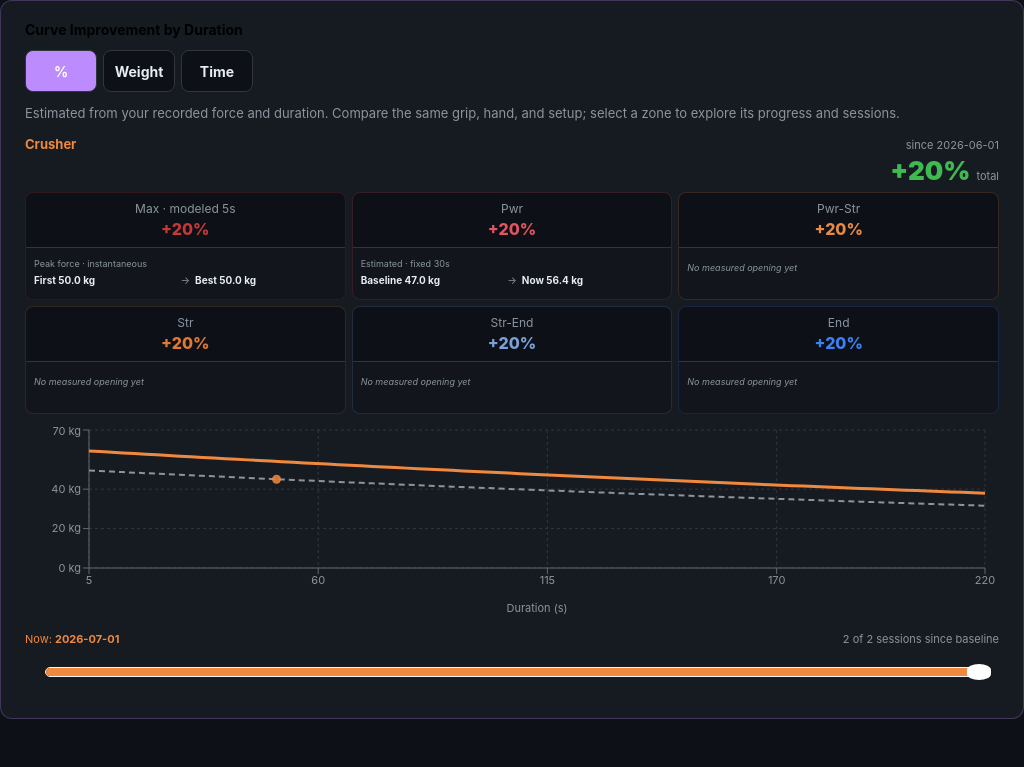
Test case: unsupported hold-time boxes remain selectable and show a dash instead of a gain
Click the button "Time": (217, 71) 181,50 -> 253,92
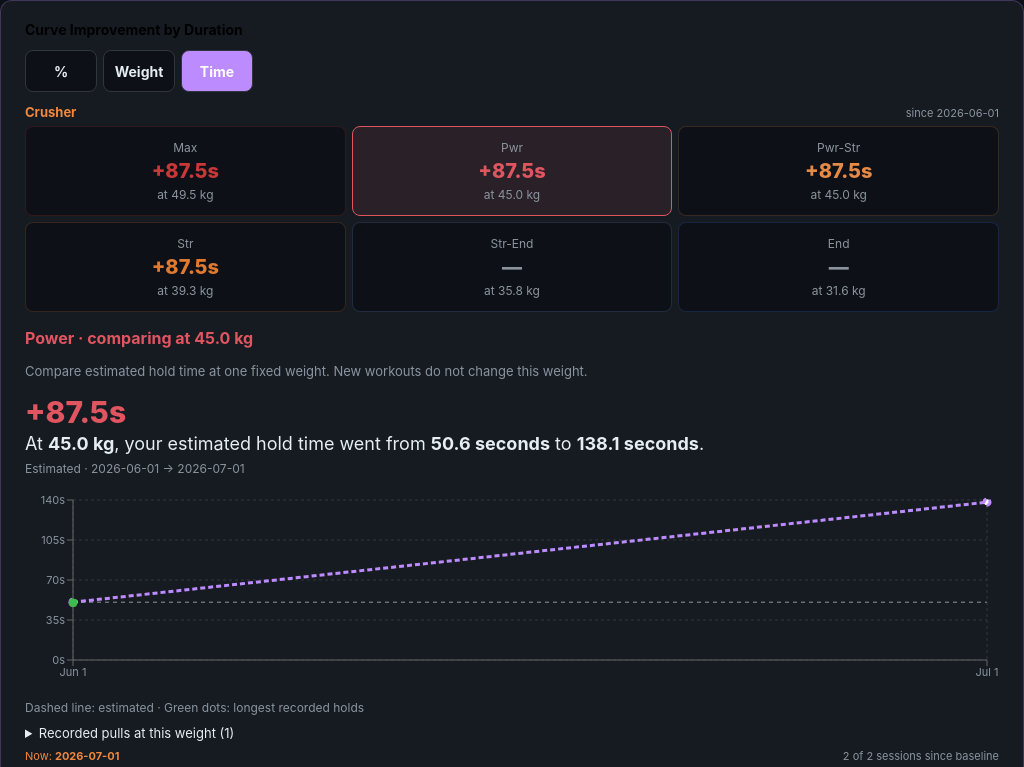
Result: the button with aria-label "Endurance hold time" shows "—"
Click the button with aria-label "Endurance hold time": (839, 267) 678,222 -> 999,312
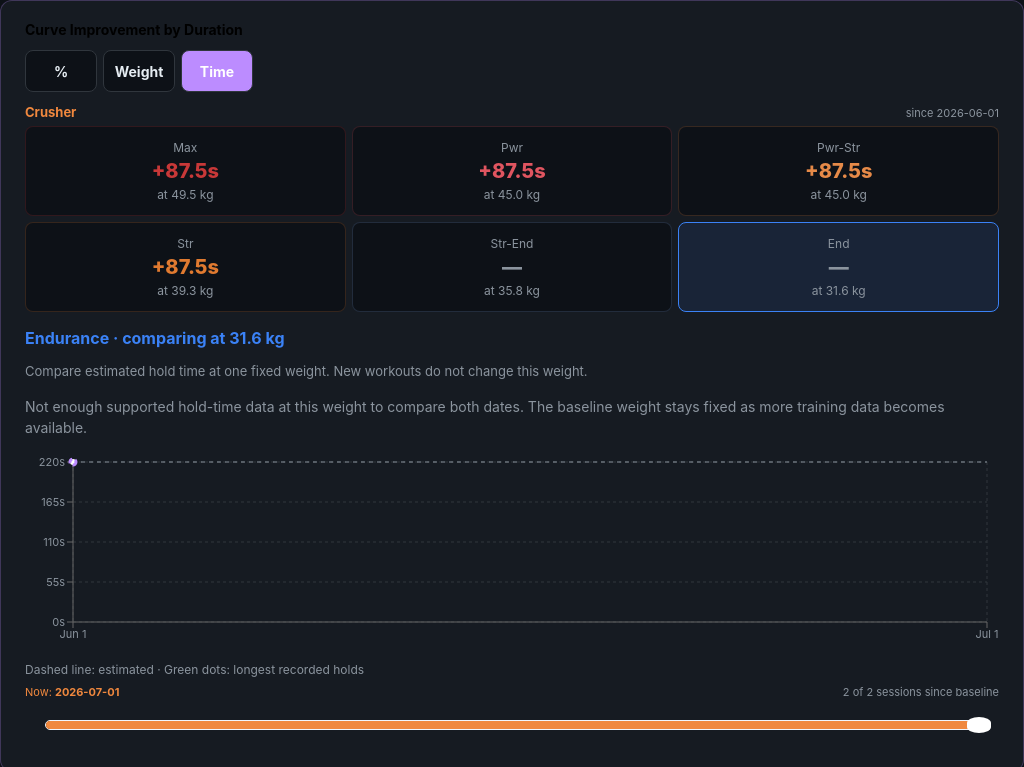
Result: the message shows "Not enough supported hold-time data" at 25,398 -> 944,436
